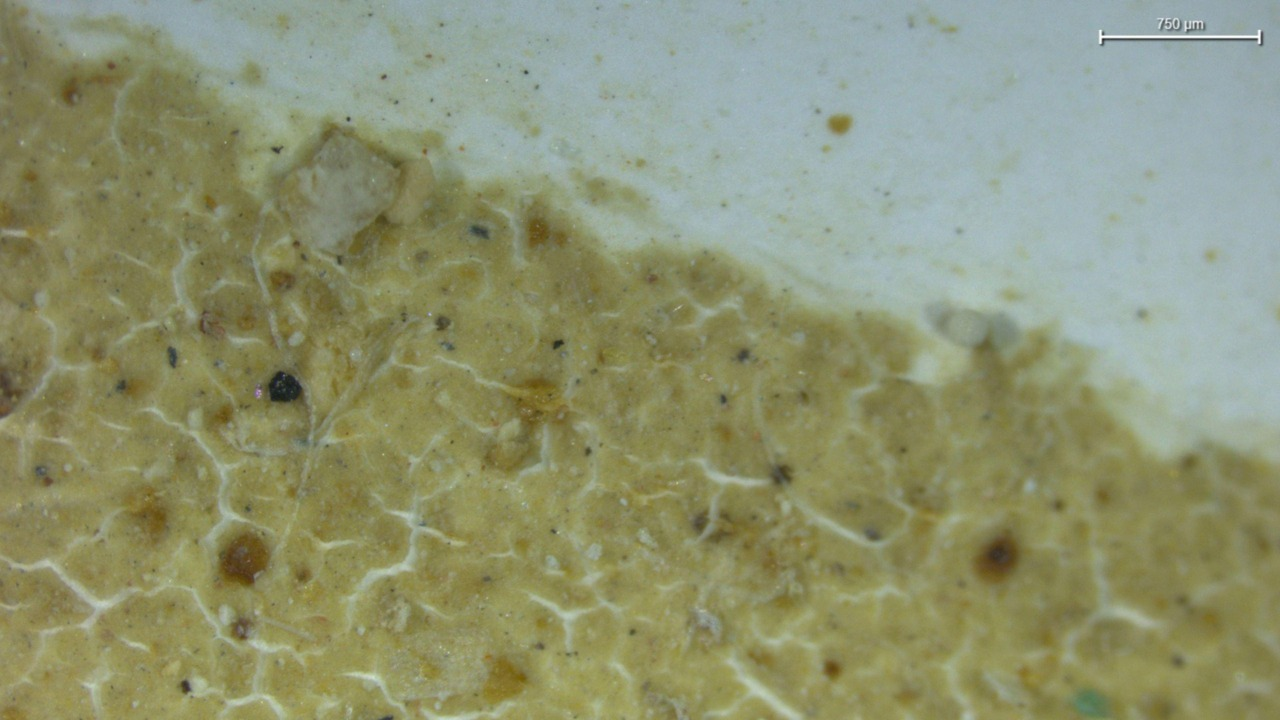microplastic_fragment: (279, 131, 435, 263)
